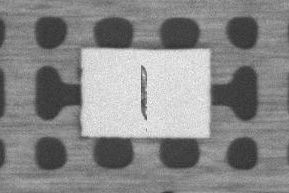DIE_INK: (141, 65, 148, 119)
